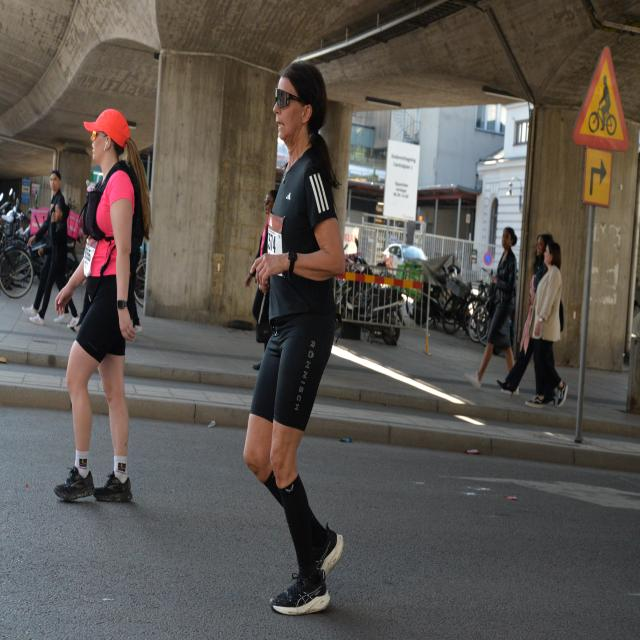runner-detect: (237, 55, 349, 623), (47, 74, 152, 514)
